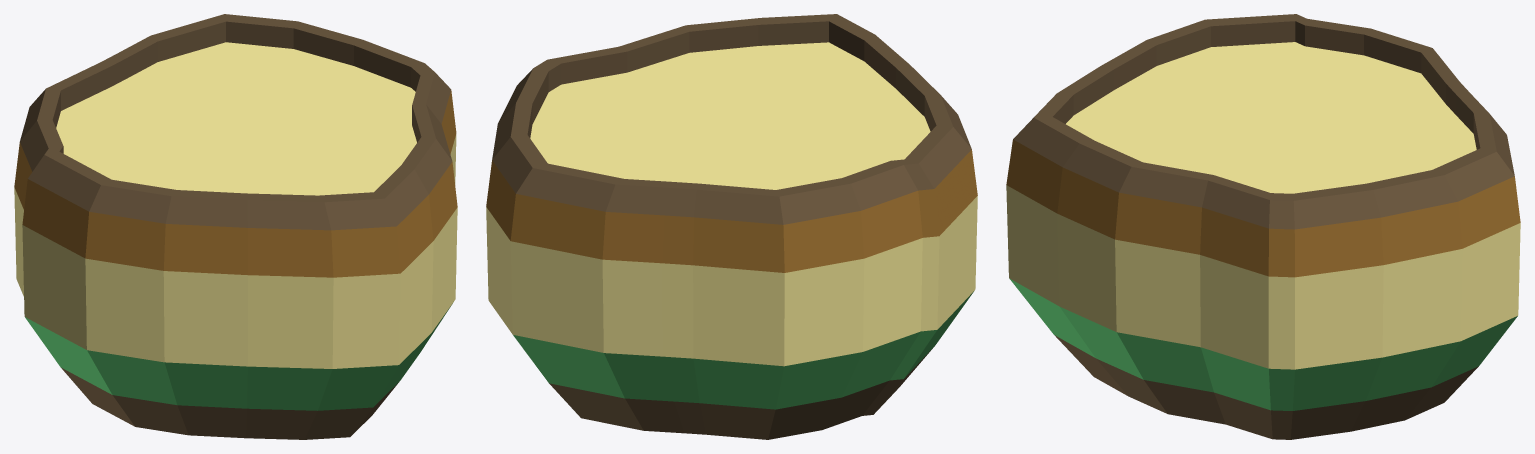
Rendered from Platform01 1.fbx.
3 renders of one model, left to right at view 1: azimuth 30°, elevation 25°; view 2: azimuth 150°, elevation 25°; view 3: azimuth 270°, elevation 25°, orthographic.
Visible parts, largest first — view 1: Plane.001; view 2: Plane.001; view 3: Plane.001.
Boxes of the visible parts, bbox=[...] form: Plane.001: bbox=[14, 14, 457, 439]; Plane.001: bbox=[486, 14, 977, 439]; Plane.001: bbox=[1006, 14, 1520, 439].
Size of the model in its own units: 3886 by 2285 by 4069.
